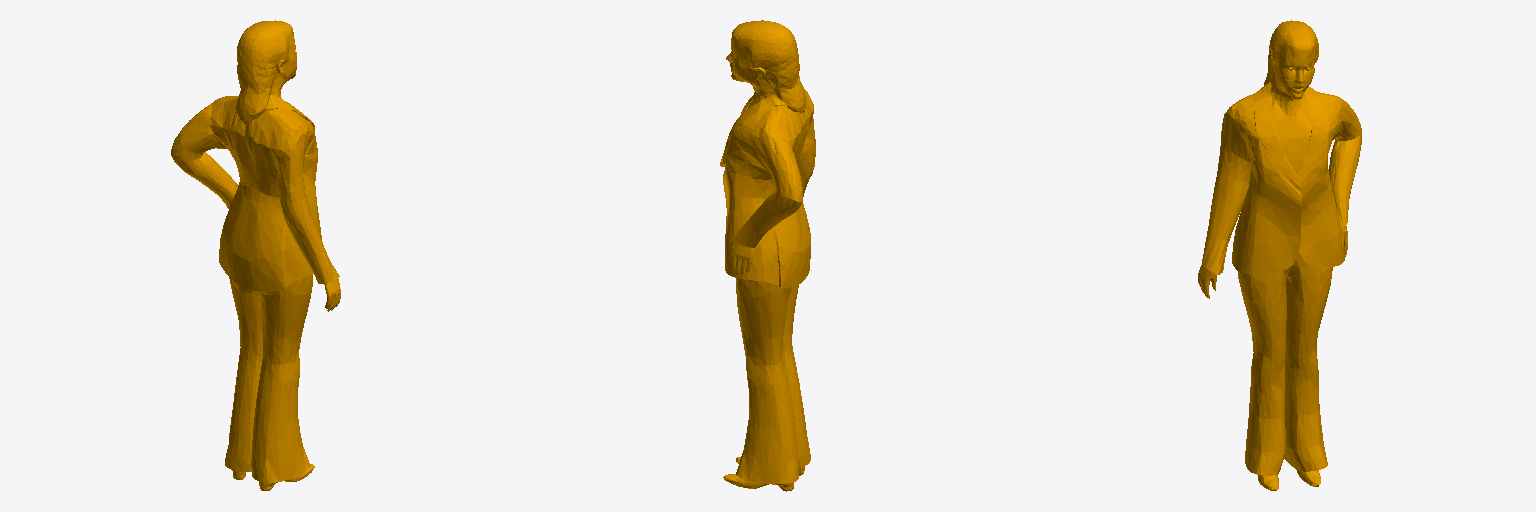
The robot description file, URDF, robot "woman_red_dress":
<?xml version="1.0" ?>
<robot name="woman_red_dress">
  <!-- A young woman dressed in red. -->

  <link name="woman_red_dress_footprint">
    <inertial>
      <mass value="62" />
      <origin xyz="0 0 0.9" />
      <inertia ixx="1" ixy="0" ixz="0" iyy="1" iyz="0" izz="1" />
    </inertial>
    <collision>
      <origin xyz="0 0 0.9" rpy="0 0 -1.57" />
      <geometry>
        <cylinder radius="0.25" length="1.8" />
      </geometry>
    </collision>
    <!--
    <collision>
      <geometry>
        <origin xyz="0 0 0" rpy="0 0 -1.57" />
        <mesh filename="package://tiago_bartender_world/meshes/cwom0010_pointing.dae" scale="1.05 1.05 1.05"/>
      </geometry>
    </collision>
    -->
    <visual>
      <origin xyz="0 0 0" rpy="0 0 0" />
      <geometry>
        <mesh filename="package://tiago_bartender_world/meshes/woman_red_dress.dae" scale="0.0078 0.0078 0.0078" />
      </geometry>
    </visual>
  </link>

</robot>

--- Facts derived from the render (not from the file) ---
Views: 3 orthographic renders of the robot side by side, from view 1: azimuth 30°, elevation 25°; view 2: azimuth 150°, elevation 25°; view 3: azimuth 270°, elevation 25°.
Model woman_red_dress with 1 links and 0 joints (none), rooted at woman_red_dress_footprint, posed all joints at 0.
Links seen in each view (by area): view 1: woman_red_dress_footprint; view 2: woman_red_dress_footprint; view 3: woman_red_dress_footprint.
Link boxes in pixels (bbox=[...]): woman_red_dress_footprint: bbox=[171, 20, 340, 490]; woman_red_dress_footprint: bbox=[720, 20, 815, 491]; woman_red_dress_footprint: bbox=[1198, 20, 1361, 490].
Size in the robot's own frame: 0.4332 by 0.5875 by 1.78 metres.
1 mesh visuals loaded from 1 distinct referenced files (1 Collada DAE).
